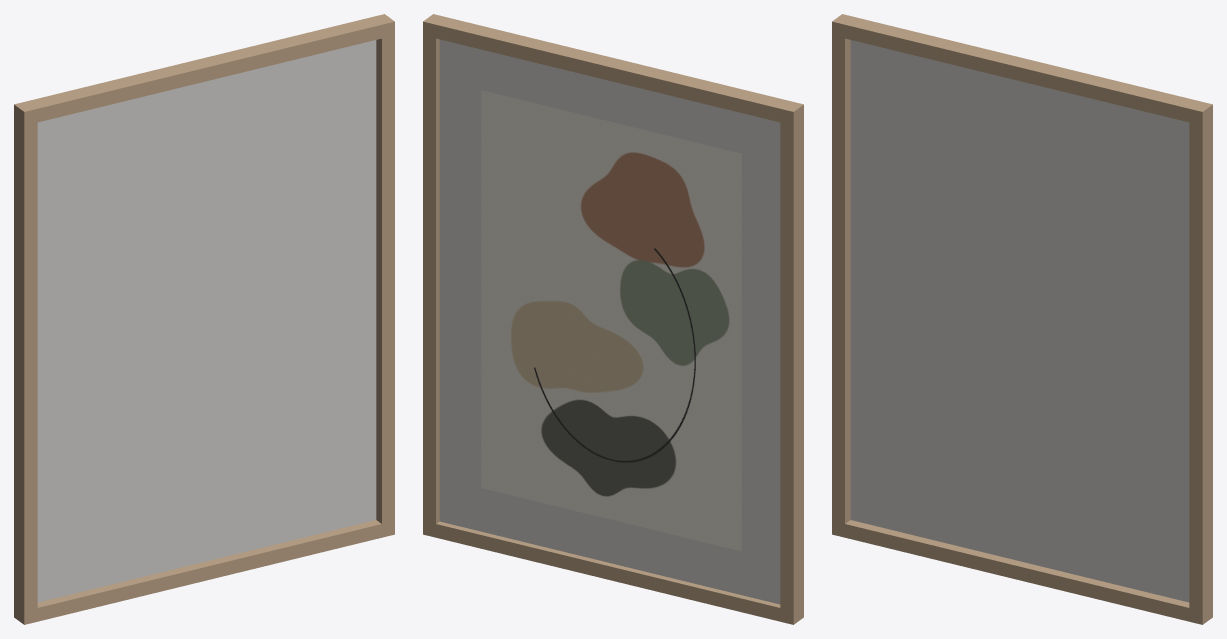
Rendered from art.glb.
3 renders of one model, left to right at view 1: azimuth 30°, elevation 25°; view 2: azimuth 150°, elevation 25°; view 3: azimuth 330°, elevation 25°, orthographic.
Visible parts, largest first — view 1: mount, frame.003, frame, frame.002, frame.001; view 2: print, mount, frame.003, frame, frame.002, frame.001; view 3: mount, frame.002, frame, frame.003, frame.001.
Boxes of the visible parts, box(x1,y1,x2,y2) form: mount: box(37, 40, 376, 602); frame.003: box(14, 118, 37, 610); frame: box(14, 14, 394, 125); frame.002: box(376, 35, 394, 523); frame.001: box(14, 520, 394, 624); print: box(481, 90, 741, 551); mount: box(439, 39, 780, 604); frame.003: box(780, 118, 803, 610); frame: box(423, 14, 803, 125); frame.002: box(423, 35, 439, 523); frame.001: box(423, 521, 803, 624); mount: box(850, 40, 1189, 602); frame.002: box(1189, 118, 1212, 610); frame: box(832, 14, 1212, 125); frame.003: box(832, 35, 850, 523); frame.001: box(832, 520, 1212, 624).
Bounding box in the file's own units: 0.62 × 0.82 × 0.03.
Materials: 3 (1 with a texture image).
